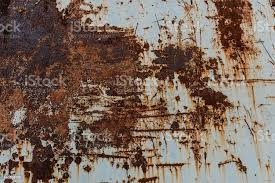rust: (1, 2, 145, 182), (148, 38, 233, 118), (204, 1, 261, 62), (138, 111, 223, 142)
